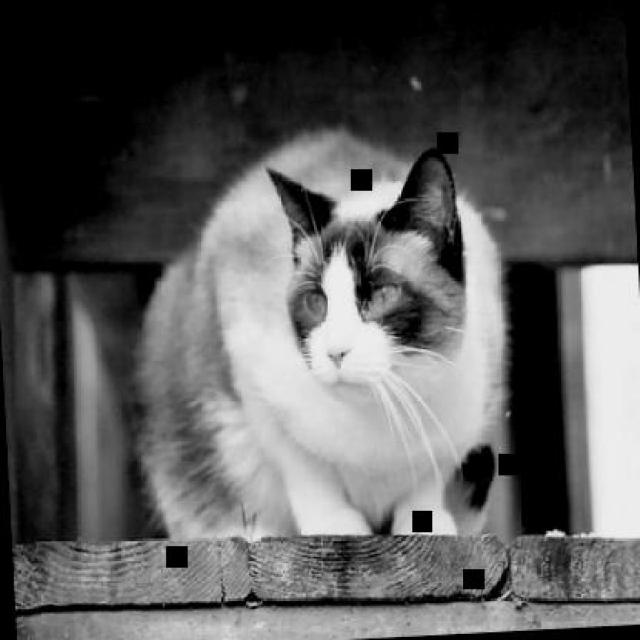cat: (127, 120, 516, 548)
